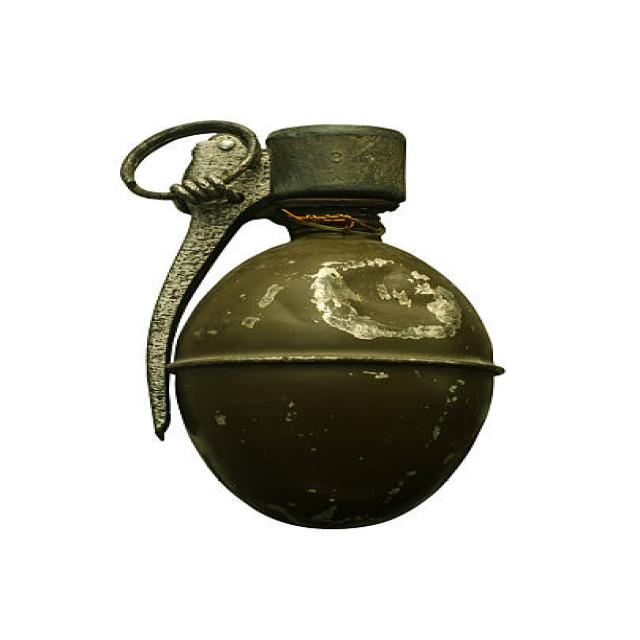grenade: (107, 111, 521, 542)
